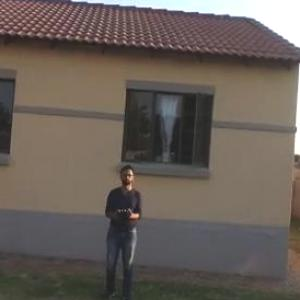follow: (97, 161, 147, 299)
